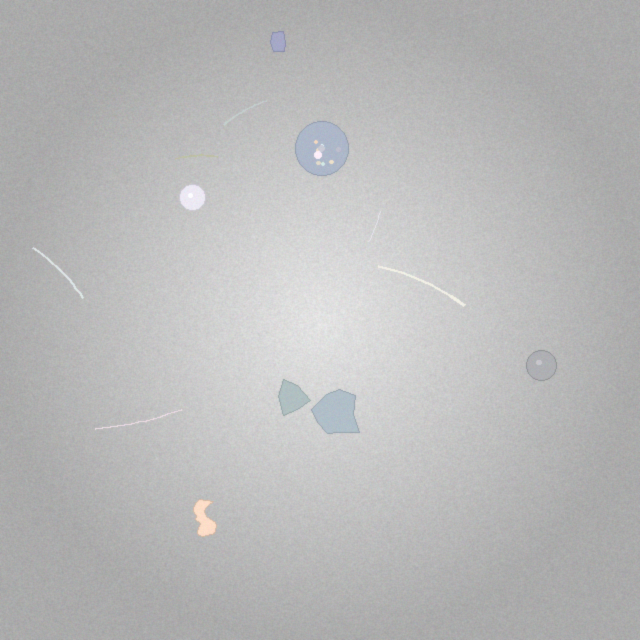fiber: (375, 262, 469, 310), (31, 245, 85, 300), (93, 407, 184, 432), (221, 99, 269, 128), (367, 210, 383, 244), (174, 154, 219, 162)
film: (193, 500, 217, 536)
foam: (296, 122, 349, 175)
fragment: (312, 389, 359, 434), (278, 380, 311, 415), (271, 31, 286, 52)
pellet: (527, 351, 557, 381), (180, 185, 206, 211)
